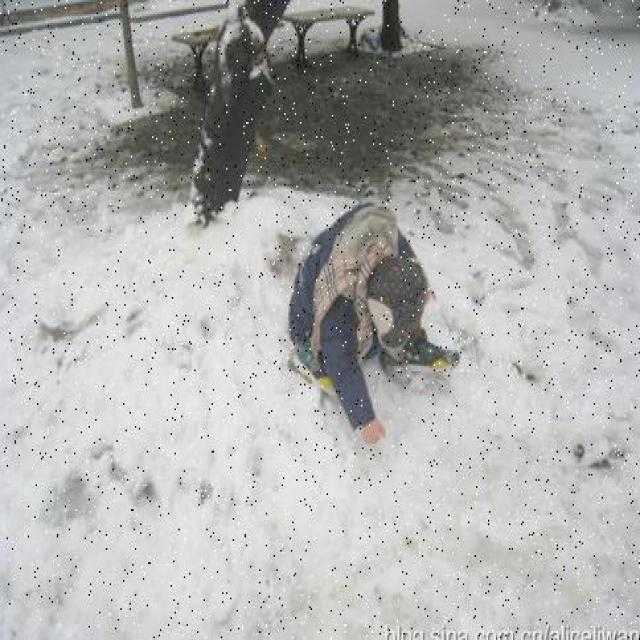fall: (294, 208, 461, 428)
